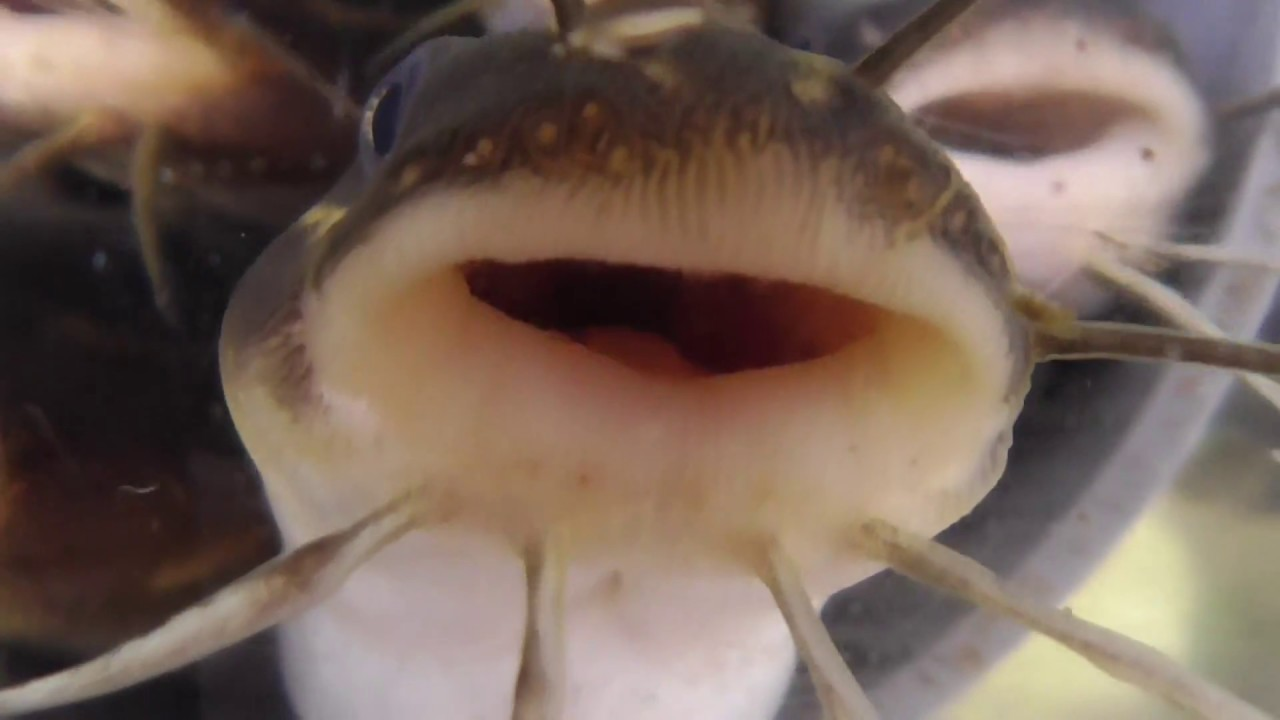gonzui: (157, 39, 1134, 637)
